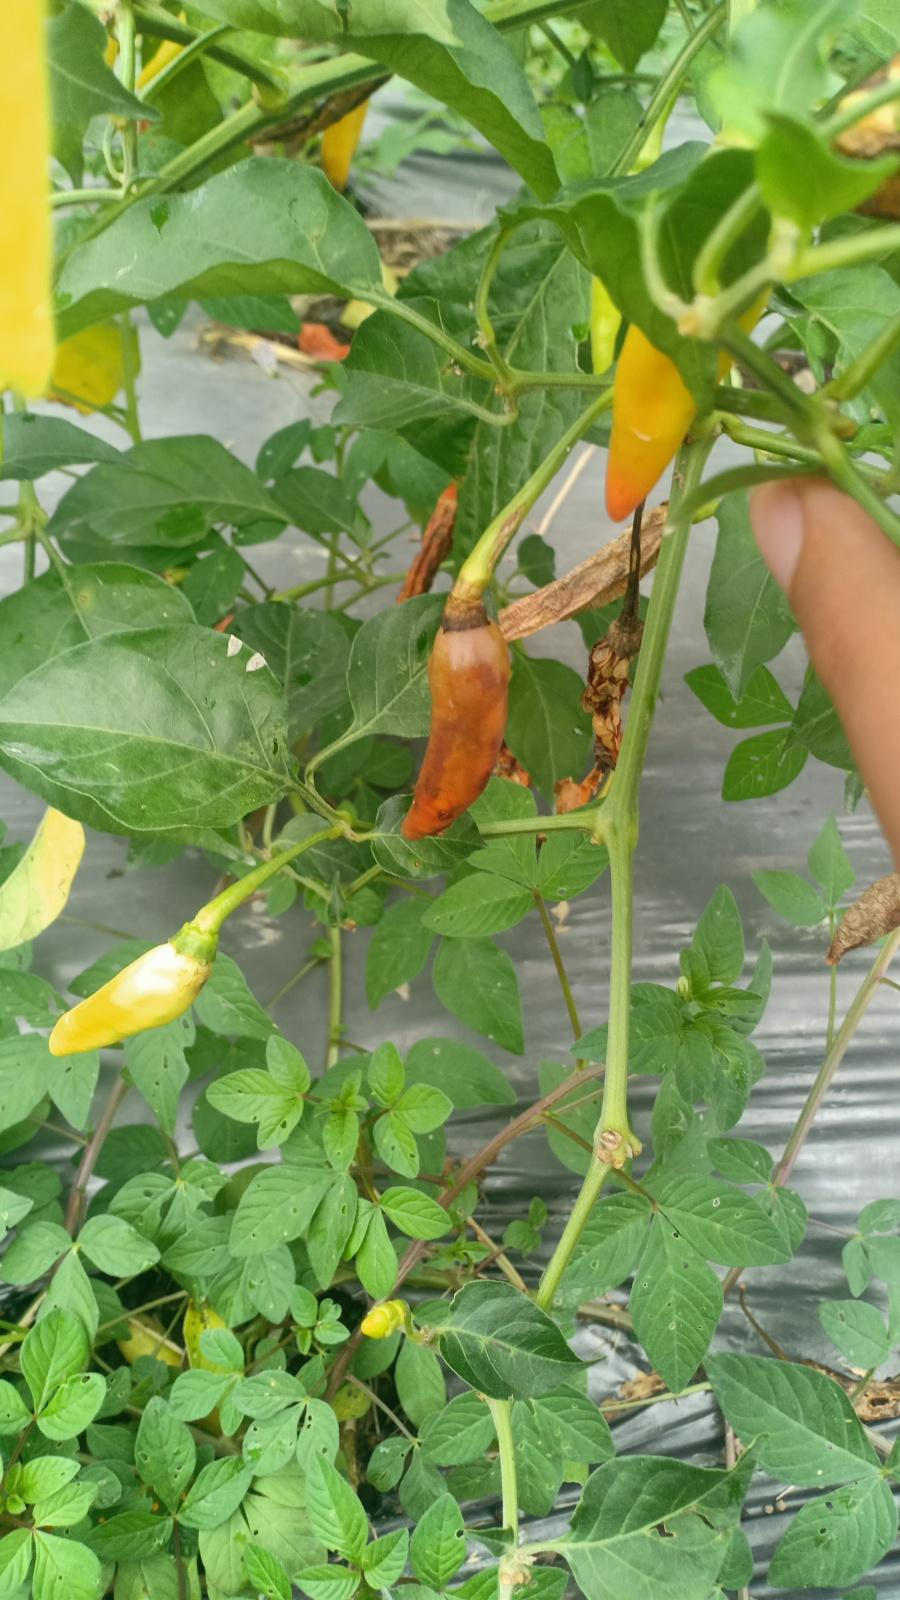cabai_normal: (610, 296, 747, 509), (49, 948, 218, 1049)
lalat_buah: (546, 627, 645, 854), (402, 627, 505, 834)
